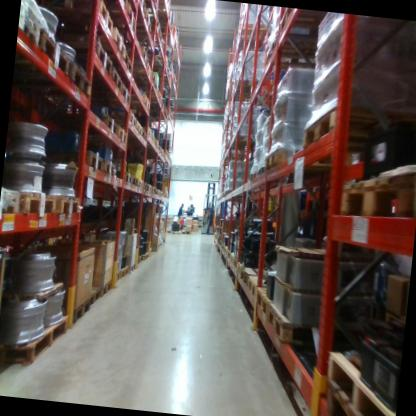forklift: (197, 177, 222, 239)
pallet: (302, 101, 416, 165), (336, 160, 415, 228), (0, 308, 68, 380), (28, 57, 97, 116), (260, 30, 342, 74), (263, 301, 327, 349), (34, 0, 117, 31), (265, 141, 338, 176), (38, 23, 79, 81), (275, 8, 340, 41), (39, 141, 104, 172), (64, 35, 115, 73), (17, 182, 58, 221), (16, 9, 44, 51), (235, 16, 277, 43), (86, 109, 121, 138), (0, 188, 26, 224), (232, 72, 270, 95), (106, 23, 130, 58), (257, 162, 299, 181), (53, 194, 82, 221), (253, 285, 274, 321), (126, 87, 155, 113), (123, 7, 154, 31), (67, 298, 90, 330), (225, 132, 255, 154), (246, 170, 278, 188), (143, 18, 165, 44), (97, 155, 118, 180), (107, 66, 125, 94), (128, 44, 150, 65), (143, 101, 170, 118), (123, 49, 139, 76), (145, 53, 171, 69), (245, 274, 261, 299), (219, 187, 244, 203), (240, 265, 259, 286), (141, 69, 159, 90), (96, 279, 114, 299), (110, 123, 128, 143), (152, 0, 172, 18), (132, 61, 153, 78), (125, 1, 138, 28), (82, 285, 99, 305), (120, 81, 133, 107), (114, 169, 132, 185), (145, 99, 165, 113), (99, 0, 130, 8), (117, 263, 129, 282), (126, 107, 137, 126), (144, 0, 160, 13), (133, 118, 145, 134), (160, 71, 172, 86), (110, 270, 122, 284), (139, 125, 147, 144), (142, 124, 152, 139), (125, 261, 135, 275), (137, 173, 145, 190), (137, 0, 147, 12), (229, 250, 236, 267), (131, 172, 139, 186), (148, 131, 156, 144), (233, 256, 239, 272), (156, 91, 163, 104), (147, 180, 153, 194), (136, 254, 144, 264), (142, 250, 150, 260), (237, 263, 243, 276), (143, 178, 149, 191), (152, 140, 159, 151), (154, 185, 161, 195), (226, 249, 231, 263), (223, 244, 230, 254), (126, 0, 140, 4), (151, 183, 156, 194)
